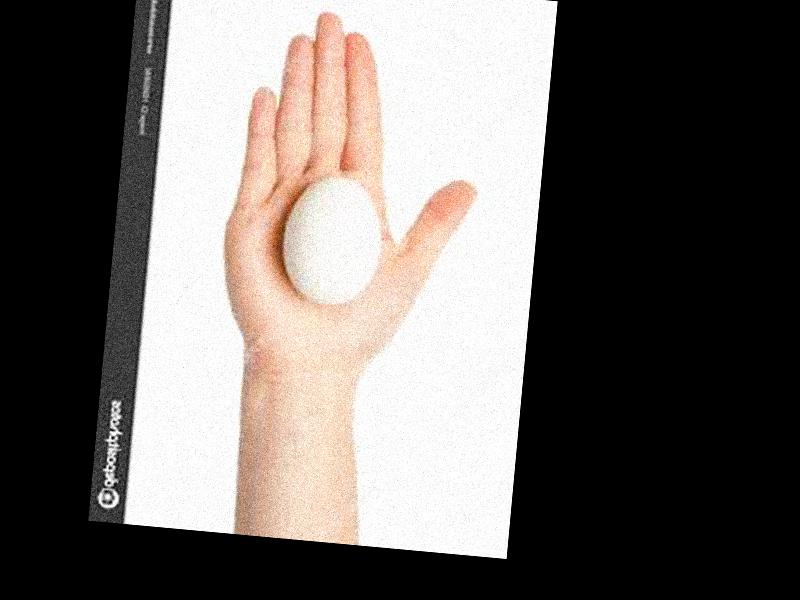Eggs: (282, 172, 384, 307)
